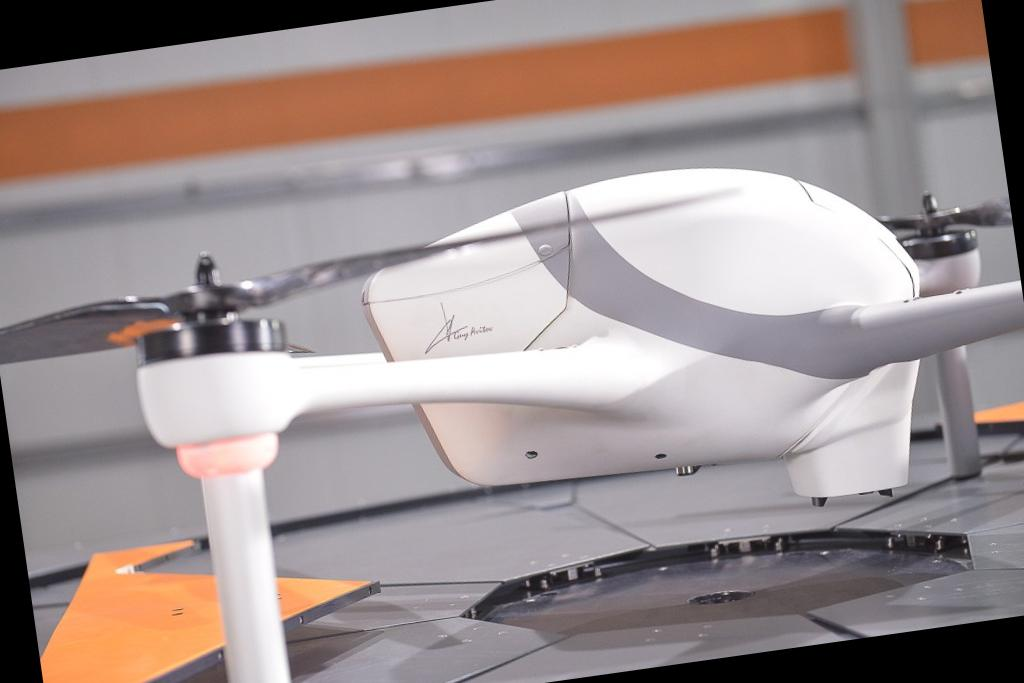drone: (7, 100, 1024, 552)
